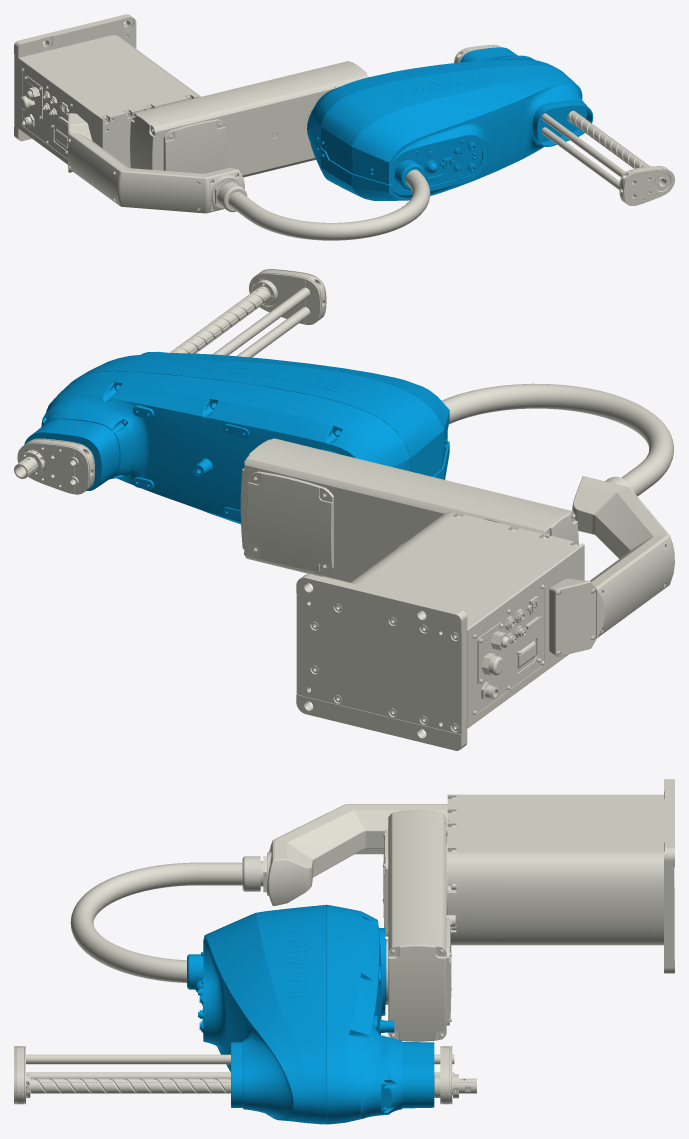
The model's file is IR-S35-80Z42S-INT_3D.fbx.
3 views of the same model, one above another, from view 1: azimuth 30°, elevation 25°; view 2: azimuth 150°, elevation 25°; view 3: azimuth 270°, elevation 25° (orthographic). The views are drawn at different scales.
Visible parts, largest first — view 1: Body1 (×6); view 2: Body1 (×6); view 3: Body1 (×6).
Part boxes in pixels (x1,y1,x2,y2): Body1 (×6): (14, 14, 674, 240); Body1 (×6): (14, 269, 674, 750); Body1 (×6): (14, 779, 674, 1124).
Size of the model in its own units: 1101 by 230 by 1099.
